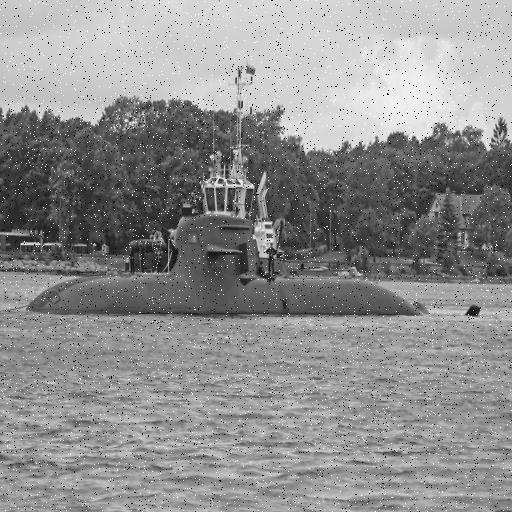submarine: (26, 213, 485, 316)
